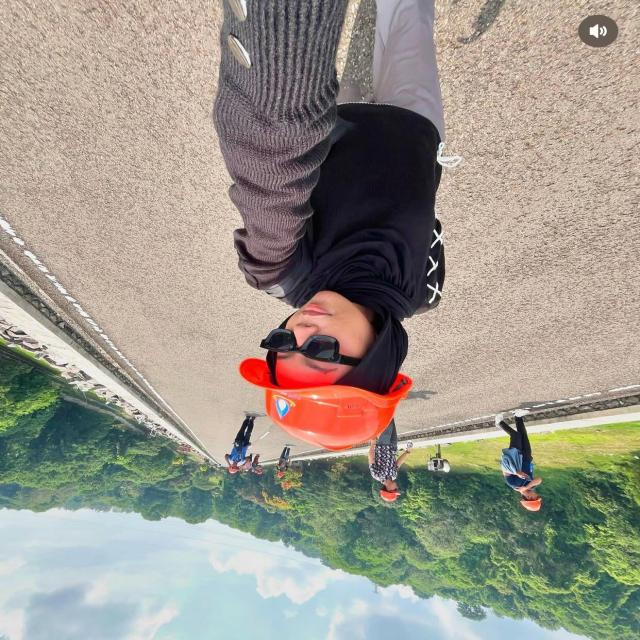safetyhelmet: (236, 291, 409, 460), (520, 497, 541, 510), (381, 489, 401, 500), (229, 467, 238, 472), (277, 472, 284, 478)
